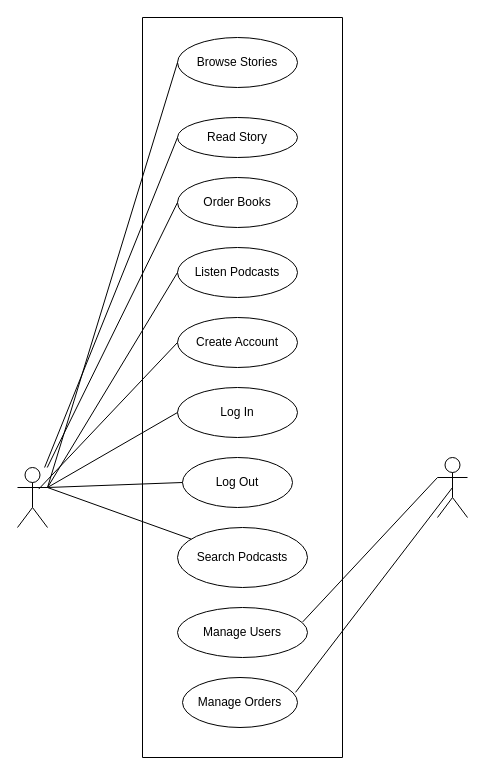
Image size: 487x775. Some labels were removed from this diagram. Here are the shapes that lost their labels. From the top down, the centre of each, then its label:
[32,497]: User
[452,487]: Admin
